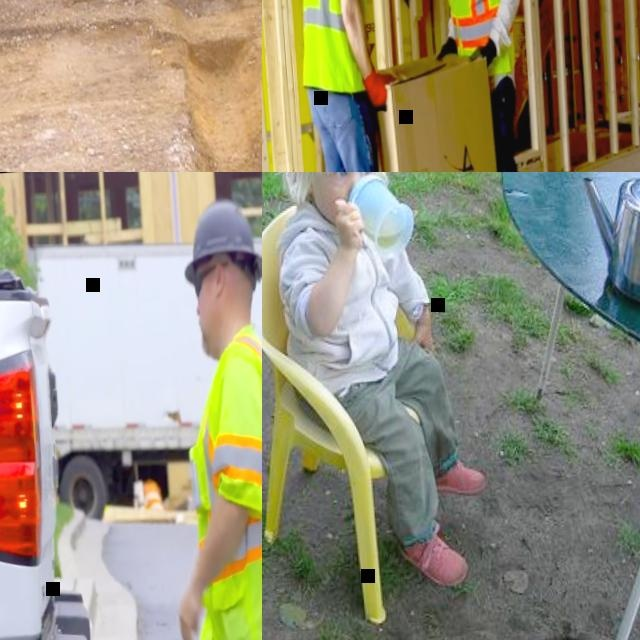Hardhat: (179, 199, 262, 287)
NO-Mask: (195, 289, 227, 361), (310, 178, 362, 218)
NO-Safety Vest: (285, 214, 407, 386)
Person: (262, 172, 499, 602), (149, 195, 262, 640), (419, 0, 545, 172), (282, 0, 407, 172)
Safety Cone: (144, 481, 164, 510)
Safety Vest: (171, 322, 262, 640), (288, 0, 374, 89), (436, 0, 519, 77)
vehicle: (0, 248, 170, 640)
